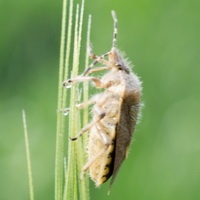insect: (55, 0, 141, 199)
